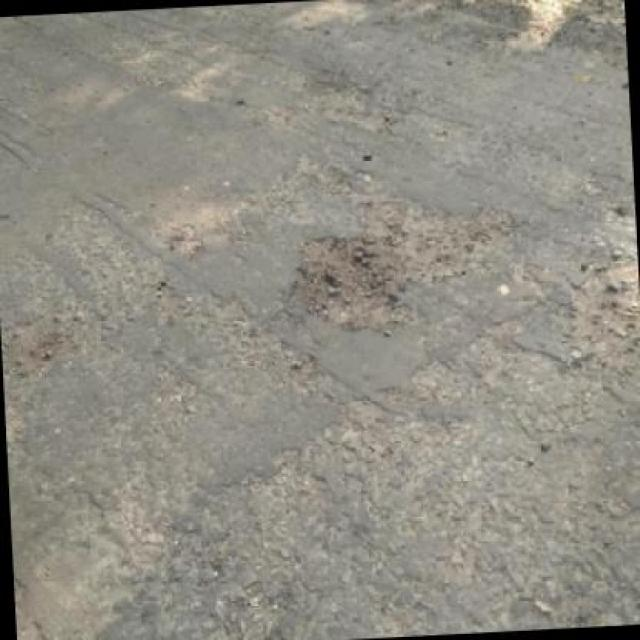pothole1: (278, 227, 400, 333)
